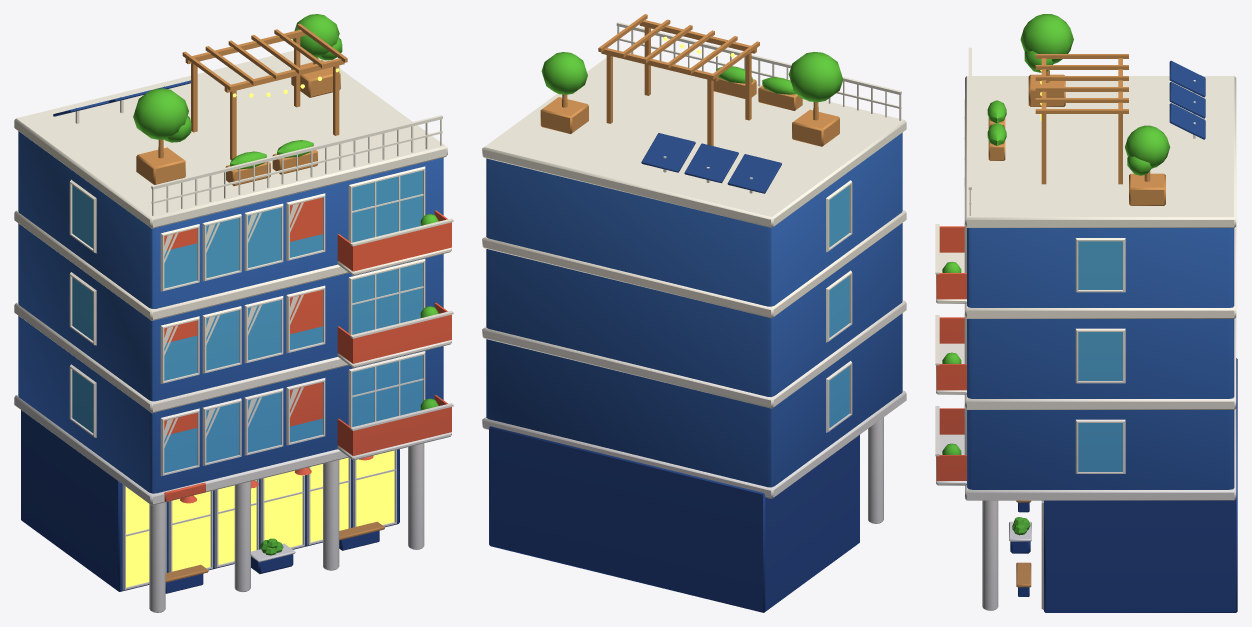
Rendered from tower_c.glb.
The picture shows the model from 3 angles, left to right: view 1: azimuth 30°, elevation 25°; view 2: azimuth 150°, elevation 25°; view 3: azimuth 270°, elevation 25°; orthographic projection. The views are drawn at different scales.
Parts seen in each view (by area): view 1: tower_c; view 2: tower_c; view 3: tower_c.
Boxes of the visible parts, x1,y1,x2,y2 form: tower_c: (14, 14, 453, 612); tower_c: (482, 14, 906, 612); tower_c: (935, 14, 1237, 612).
Size of the model in its own units: 10.14 by 15.93 by 9.05.
